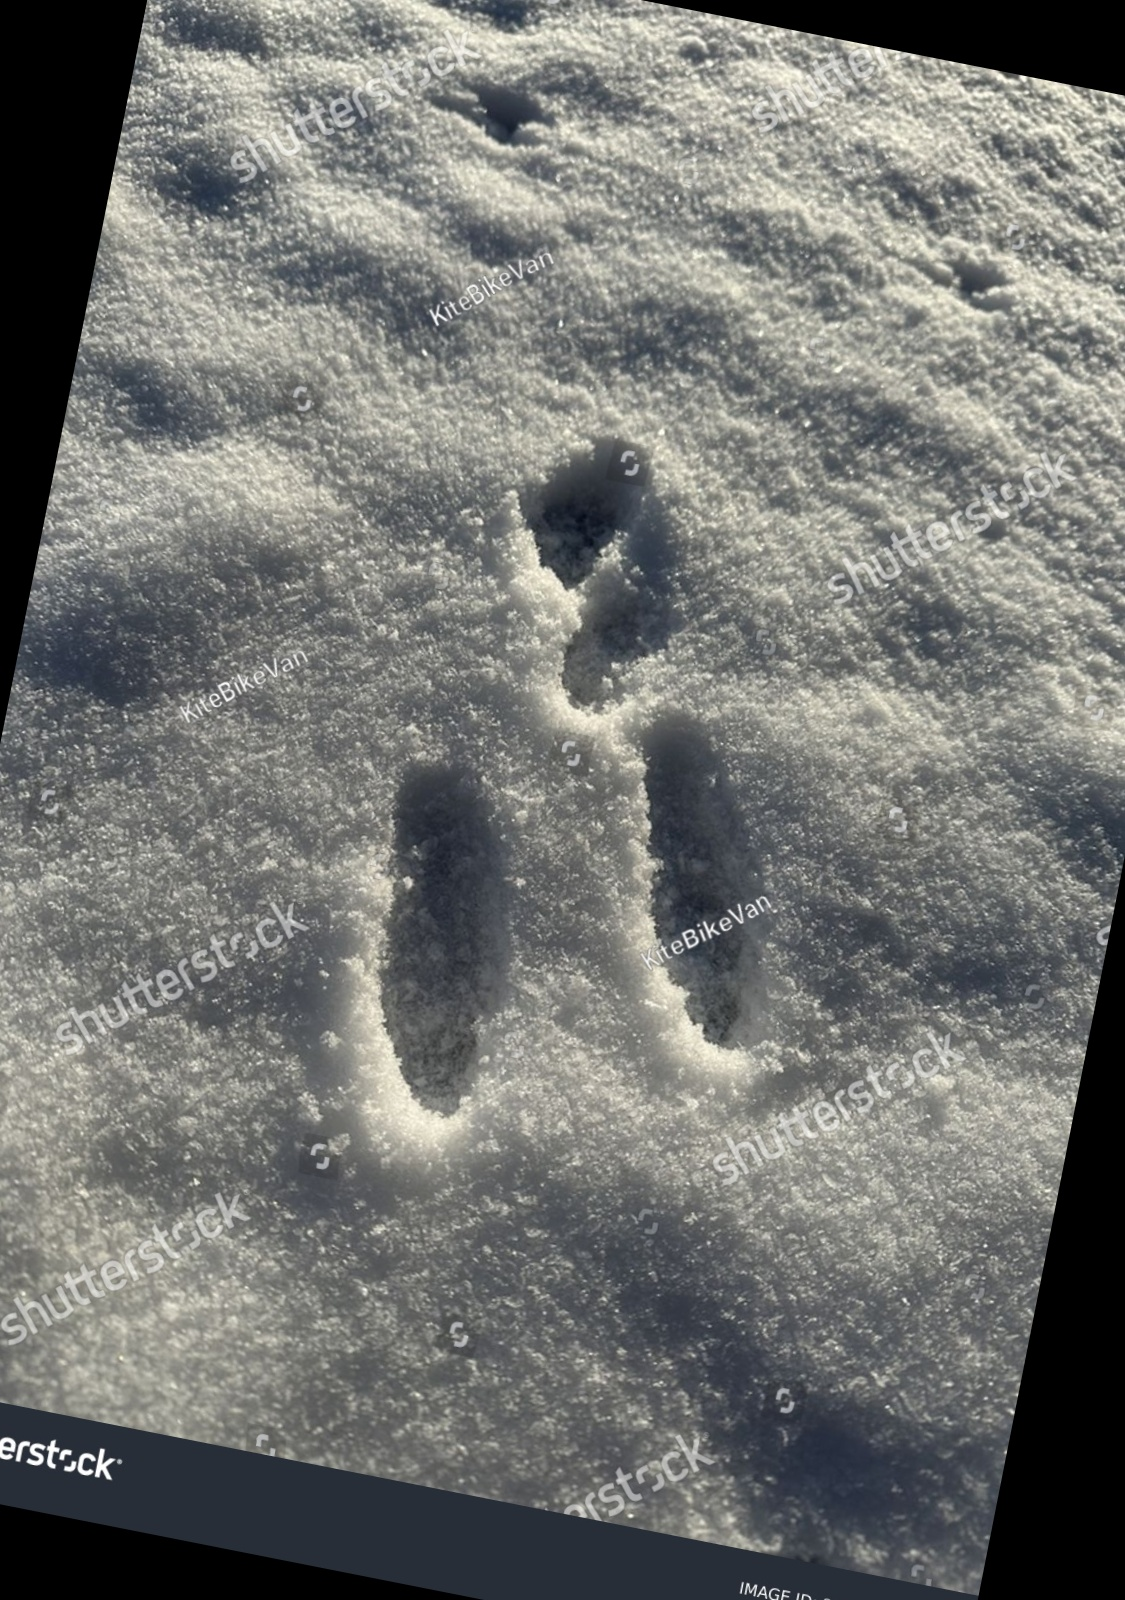rabbit: (179, 244, 1017, 1275)
